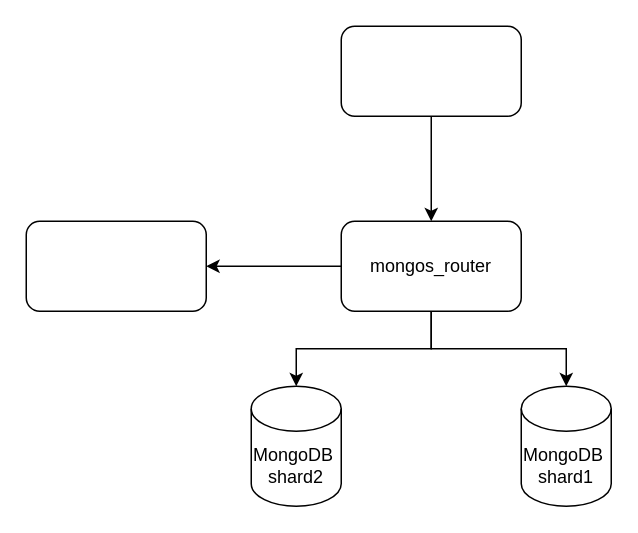
Some shapes in this 638 by 533 pixel diagram are drawn without their labels. Each missing label, with the centre of its shape:
"Mongo configSrv" goes at [115,265].
"pymongo-api" goes at [430,70].
